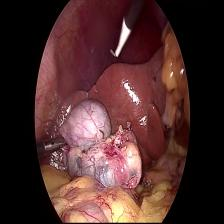Grasper: (40, 133, 72, 159)
Hook: (108, 18, 135, 63)
